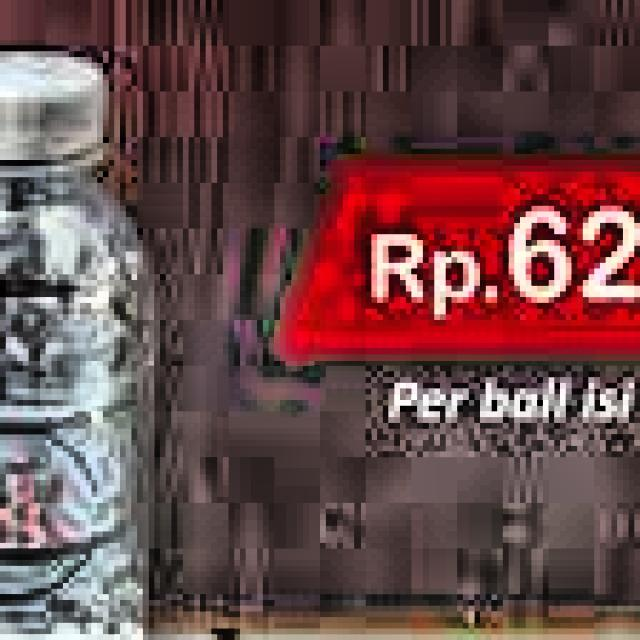plastic: (0, 51, 177, 640)
